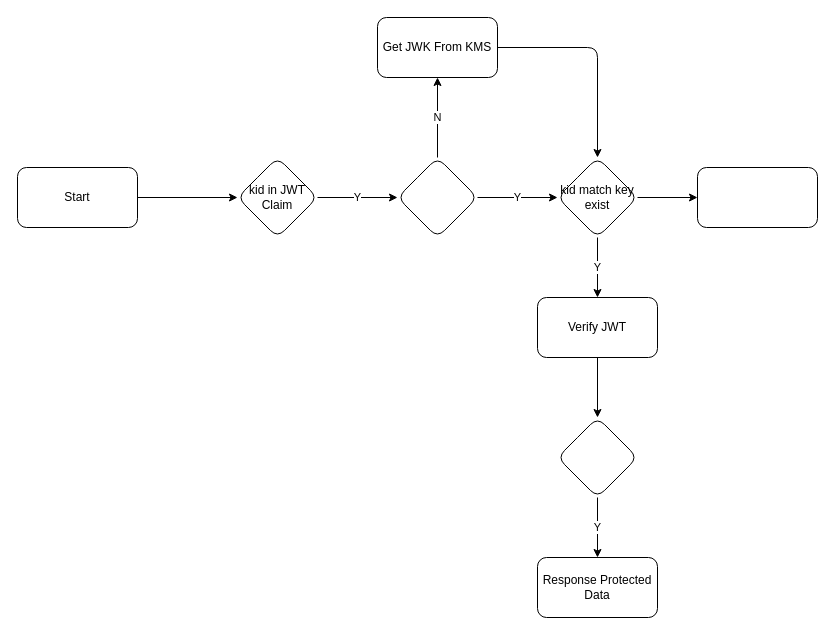
Image size: 835x635. Some labels were removed from this diagram. The shapes that lost their labels are listed below. From the top down, each one's box as (x1, y1, x2, y2) in pixels, then its label:
(396, 156, 478, 238): pub key in cache
(696, 166, 818, 228): Response 401 error
(556, 416, 638, 498): JWT Valid
